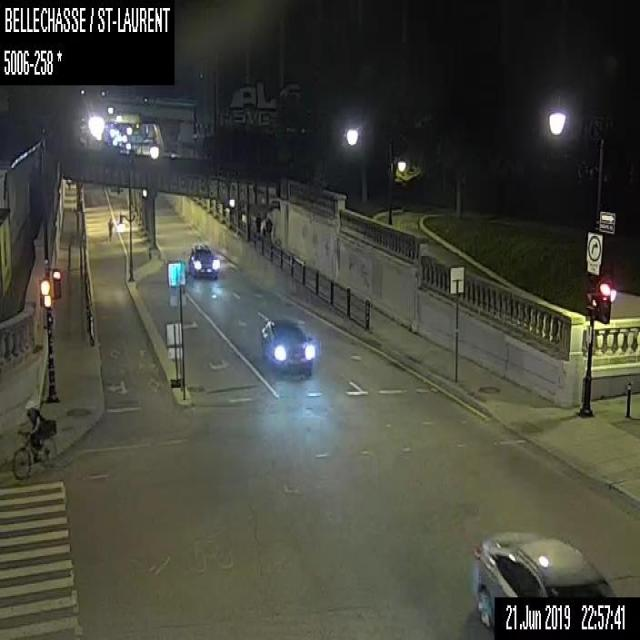cyclist: (11, 399, 57, 478)
pedestrian: (260, 214, 272, 236), (254, 210, 261, 232), (107, 217, 113, 241)
vehicle: (472, 529, 614, 628), (261, 317, 313, 372), (188, 244, 218, 278)
